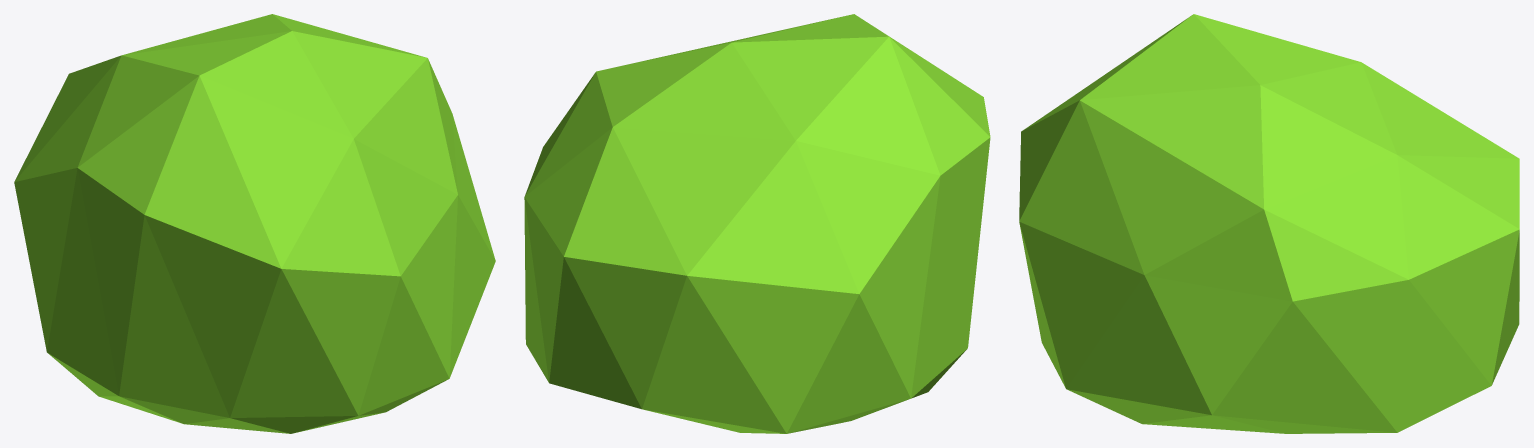
The model's file is Low Poly Bush.fbx.
The picture shows the model from 3 angles, left to right: view 1: azimuth 30°, elevation 25°; view 2: azimuth 150°, elevation 25°; view 3: azimuth 270°, elevation 25°; orthographic projection. The views are drawn at different scales.
Parts seen in each view (by area): view 1: Esfera geodésica; view 2: Esfera geodésica; view 3: Esfera geodésica.
Boxes of the visible parts, box(x1,y1,x2,y2) form: Esfera geodésica: box(14, 14, 495, 433); Esfera geodésica: box(524, 14, 990, 433); Esfera geodésica: box(1019, 14, 1519, 433).
Bounding box in the file's own units: 6.82 × 7.8 × 5.41.
